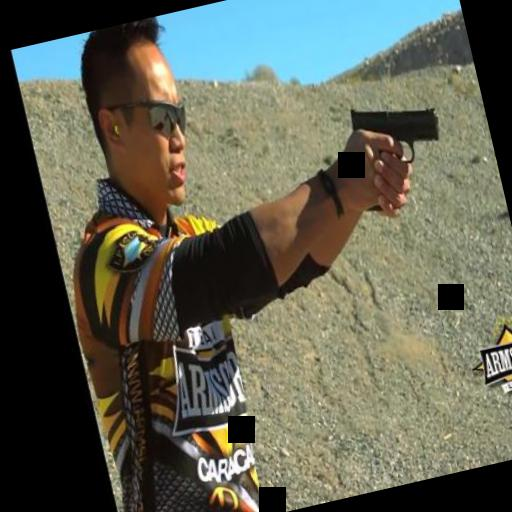Handgun: (342, 88, 458, 220)
